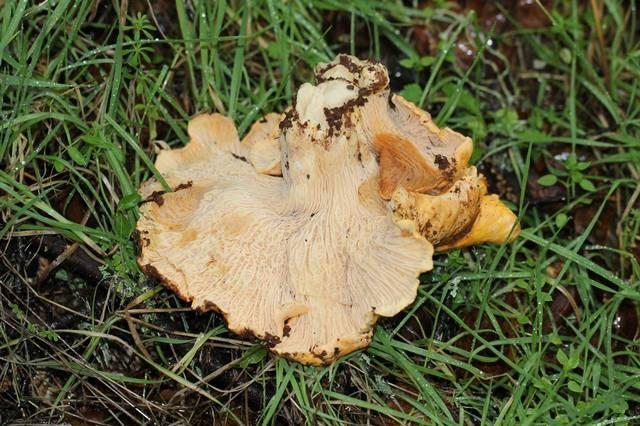edible_mushroom: (132, 51, 521, 367)
